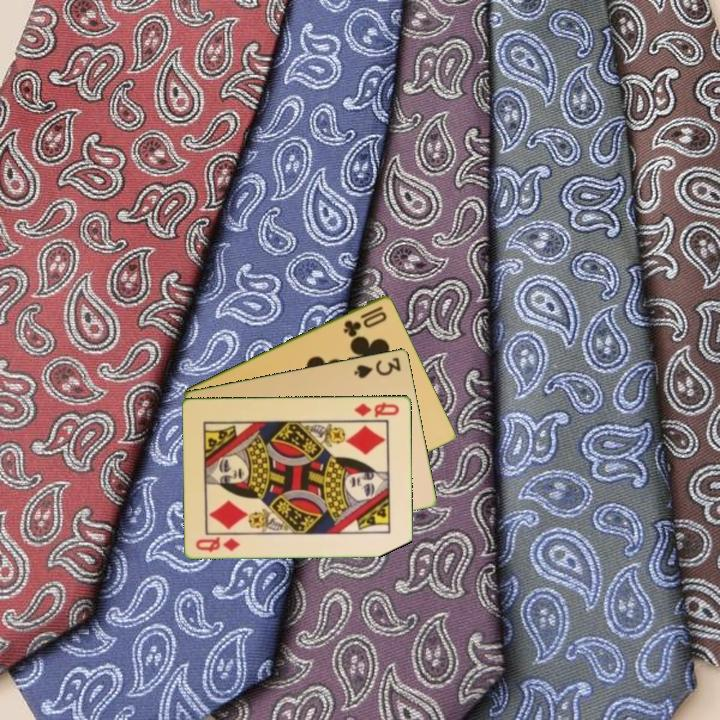10c: (340, 302, 390, 339)
3s: (351, 353, 404, 381)
Qd: (351, 398, 402, 420), (193, 533, 243, 555)
